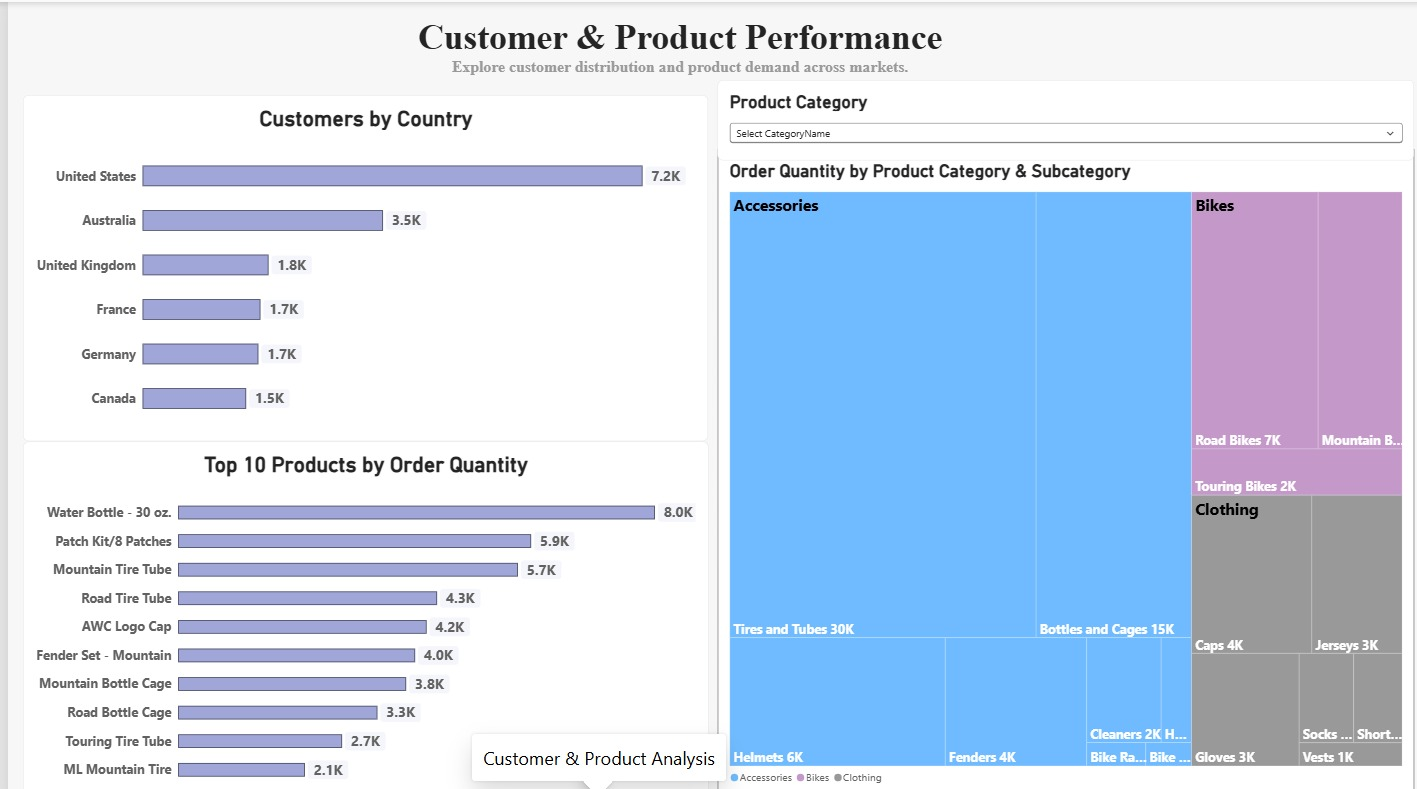

This screenshot's page, from the dashboard's own definition file:
{"tool":"powerbi","page":{"name":"Customer & Product Analysis","canvas":[1920,1080],"ordinal":1},"visuals":[{"type":"textbox","box":[515.1,21.3,786.8,104],"z":0},{"type":"clusteredBarChart","title":"Customers by Country","fields":{"Category":["Territory.Country"],"Y":["Sales.Total Customers"]},"box":[20.3,125.7,926.6,468.4],"z":1000},{"type":"clusteredBarChart","title":"Top 10 Products by Order Quantity","fields":{"Category":["Product.ProductName"],"Y":["Sales.Total Order Quantity"]},"box":[20.3,594.1,926.6,486.6],"z":2000},{"type":"treemap","title":"Order Quantity by Product Category & Subcategory","fields":{"Details":["Product Subcategory.SubcategoryName"],"Group":["Product category.CategoryName"],"Values":["Sales.Total Order Quantity"]},"box":[946.9,125.7,961.1,734],"z":3000},{"type":"listSlicer","title":"Product Category","fields":{"Values":["Product category.CategoryName"]},"box":[959,859.7,948.9,198.7],"z":4000}]}

Visuals, with their boxes in screenshot pixels (x1, y1, x2, y2), scaled from the page's 1920x1080 canvas onto the 1417x789 screenshot:
textbox: bbox=[380, 16, 961, 92]
"Customers by Country" clusteredBarChart: bbox=[15, 92, 699, 434]
"Top 10 Products by Order Quantity" clusteredBarChart: bbox=[15, 434, 699, 788]
"Order Quantity by Product Category & Subcategory" treemap: bbox=[699, 92, 1408, 628]
"Product Category" listSlicer: bbox=[708, 628, 1408, 773]
